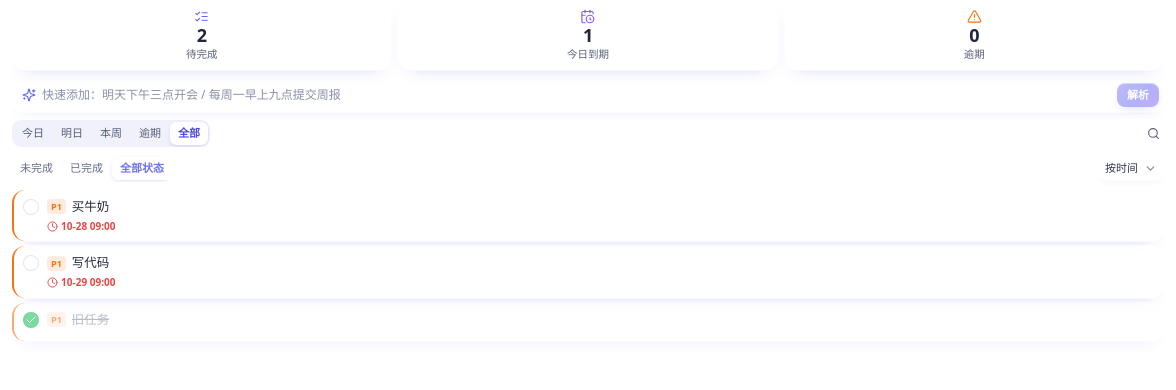
Test: TasksPanel 筛选交互 › 清空搜索恢复全部；点击状态按钮过滤任务列表
The width and height of the screenshot is (1176, 390).
 展开搜索并过滤
Click the button named "搜索任务" at (1153, 133), box [1142,122,1164,144]
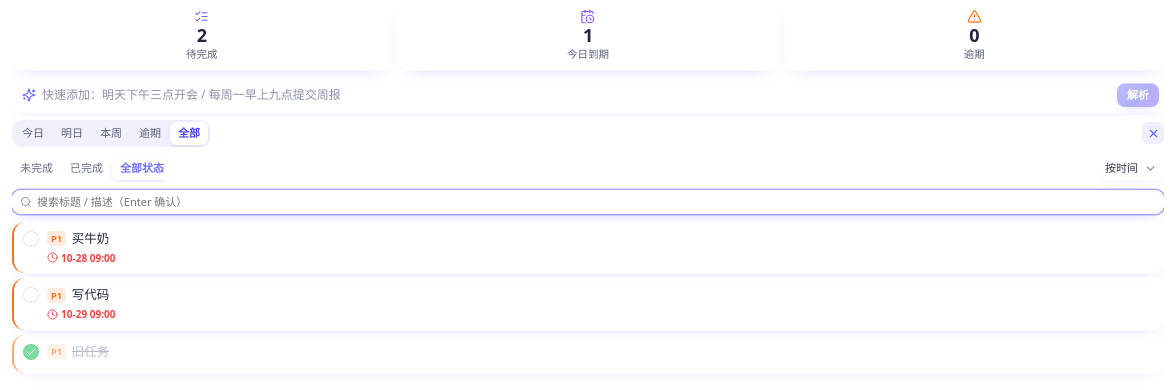
Type "牛奶" into the field with placeholder "搜索标题 / 描述（Enter 确认）" at (596, 202), box [37,194,1156,210]
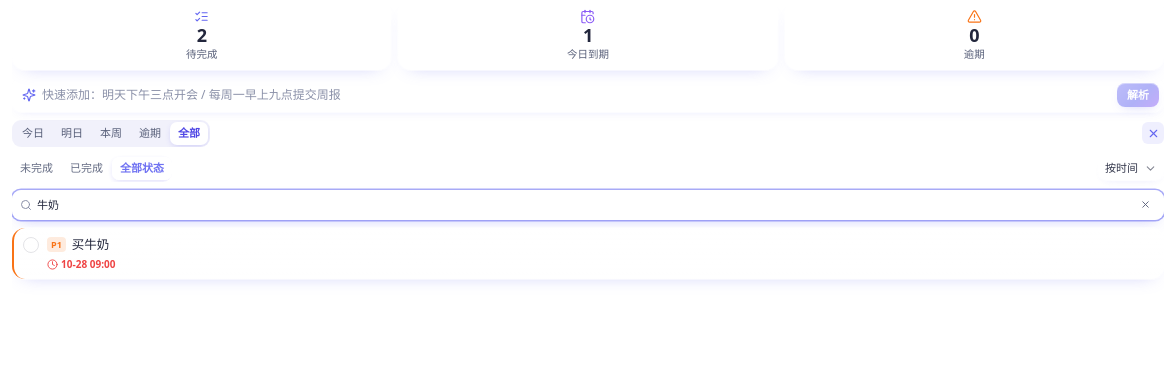
Expected: the text "写代码" is gone
清空搜索 → 三条全部回来
Click the button named "清空搜索" at (1145, 205), box [1134,194,1156,216]
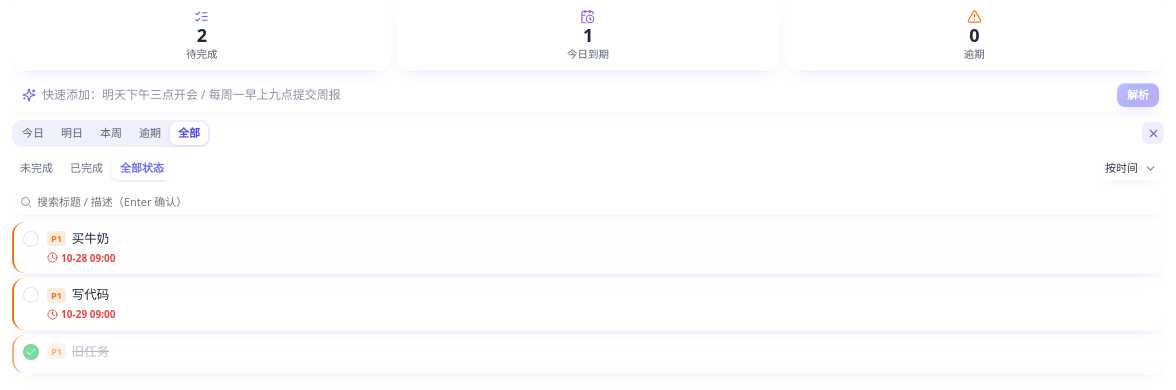
Expected: the text "写代码" is shown, [72,286,109,304]
Expected: the text "旧任务" is shown, [72,343,109,361]
状态筛选：已完成 → 只剩"旧任务"
Click the button "已完成" at (86, 168), box [62,157,111,180]
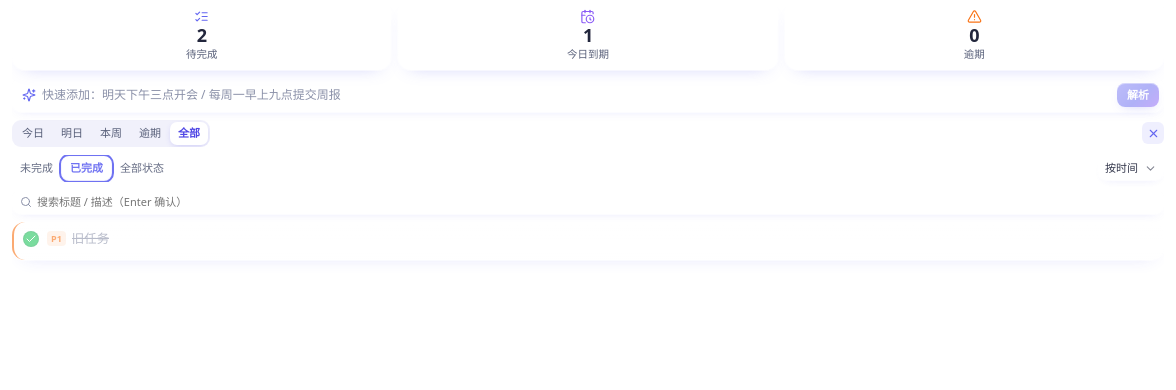
Expected: the text "旧任务" is shown, [72,230,109,248]
Expected: the text "买牛奶" is gone
Expected: the text "写代码" is gone
